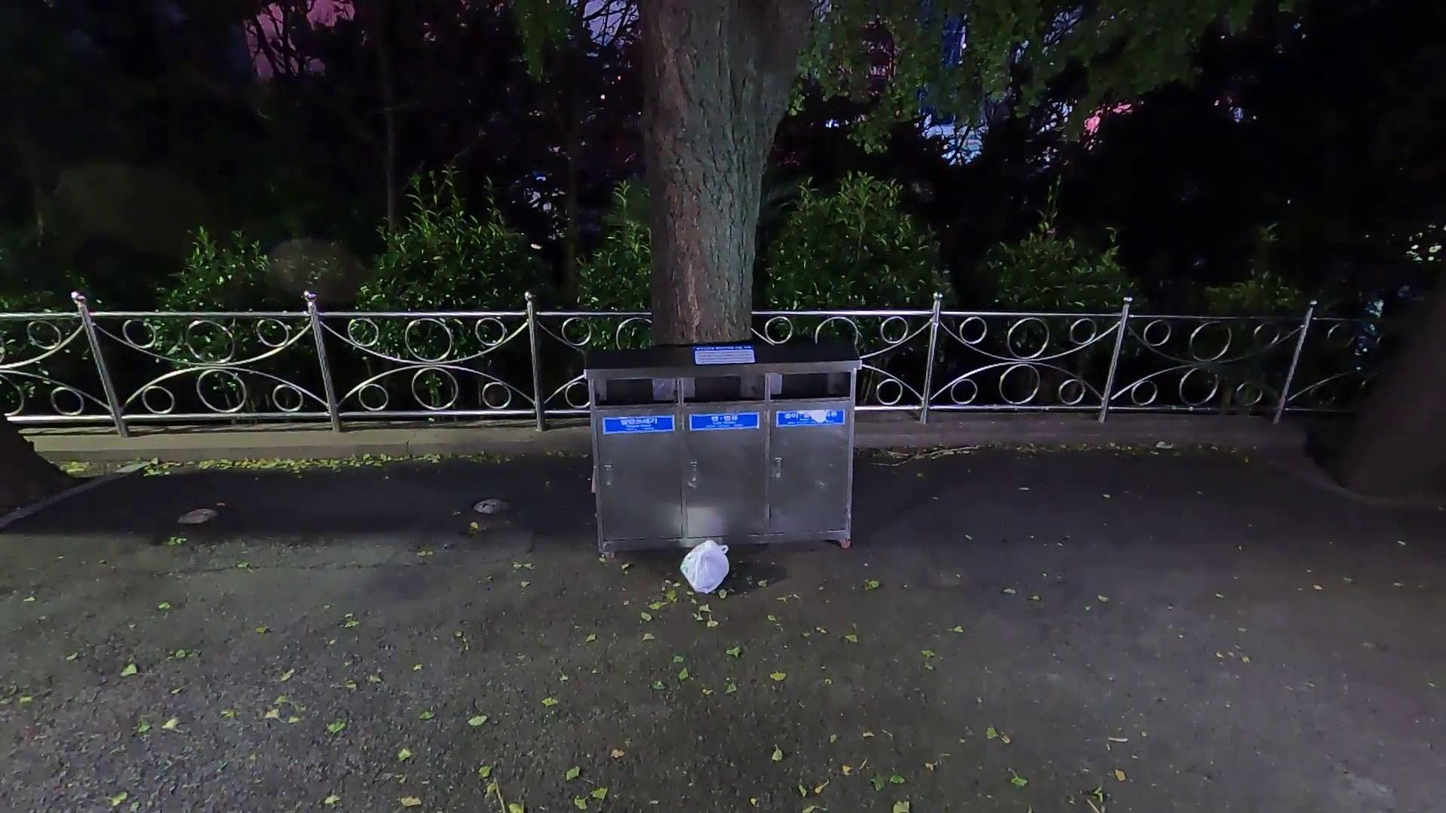trash: (677, 534, 737, 600)
